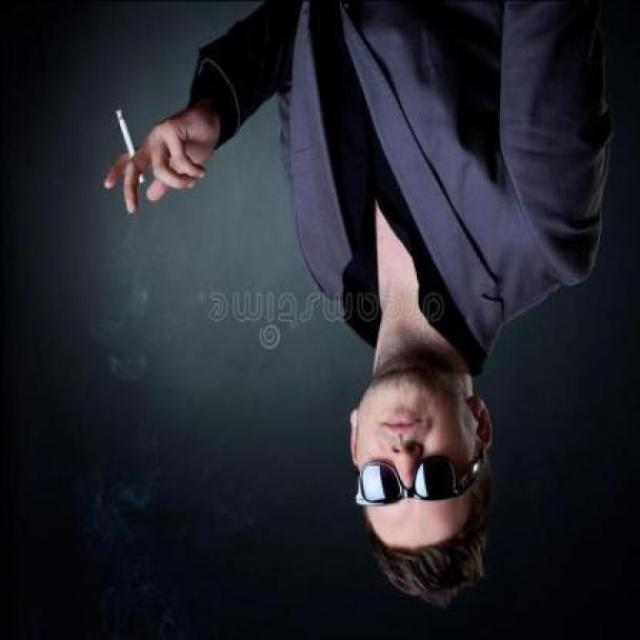rokok: (110, 108, 148, 188)
